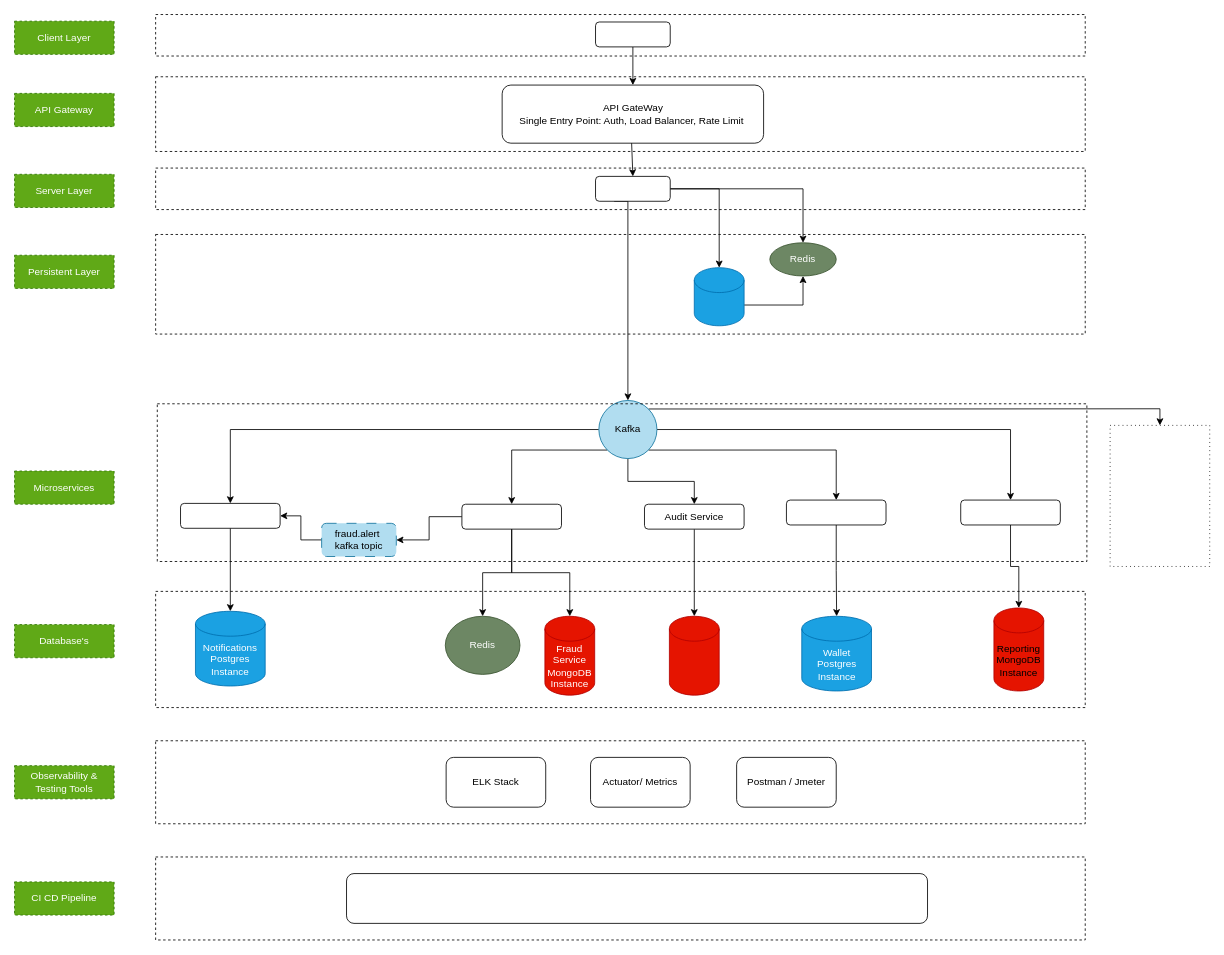
This 1224x955 diagram has some shape labels left out. Here are the shapes that lost their labels. From the top down, the centre of each, then its label:
At (x=632, y=34): "Client".
At (x=632, y=188): "Wallet Service".
At (x=718, y=296): "Postgre".
At (x=230, y=515): "Notification Service".
At (x=836, y=512): "Reversal Service".
At (x=1010, y=512): "Reporting Service".
At (x=1159, y=495): "TOPICS wallet.credit wallet.debit fraud.alert wallet.dlq wallet.retry".
At (x=511, y=516): "Fraud Service".
At (x=694, y=655): "Audit MongoDB Instance".
At (x=637, y=898): "Git --> Jenkins/Git Action --> Docker --> AWS EC2/Openshift".
